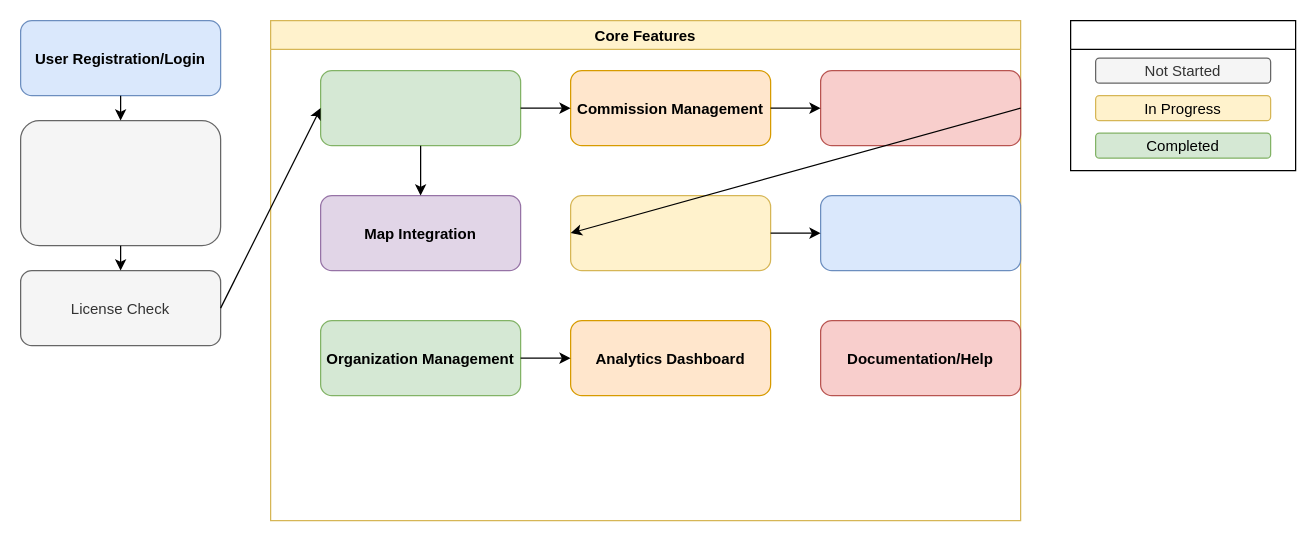
The diagram is 1316 pixels wide and 541 high, and some of its shapes have lost their labels. The shapes that lost their labels are listed below. From the top down, each one's box as (x1, y1, x2, y2) in pixels, then its label:
(319, 69, 521, 146): Listing Management
(819, 69, 1021, 146): E-Sign System
(1069, 19, 1296, 171): Implementation Status
(19, 119, 221, 246): Authentication Details - Name - Email - License Number - Company - Role
(569, 194, 771, 271): Contract Management
(819, 194, 1021, 271): Notification System
